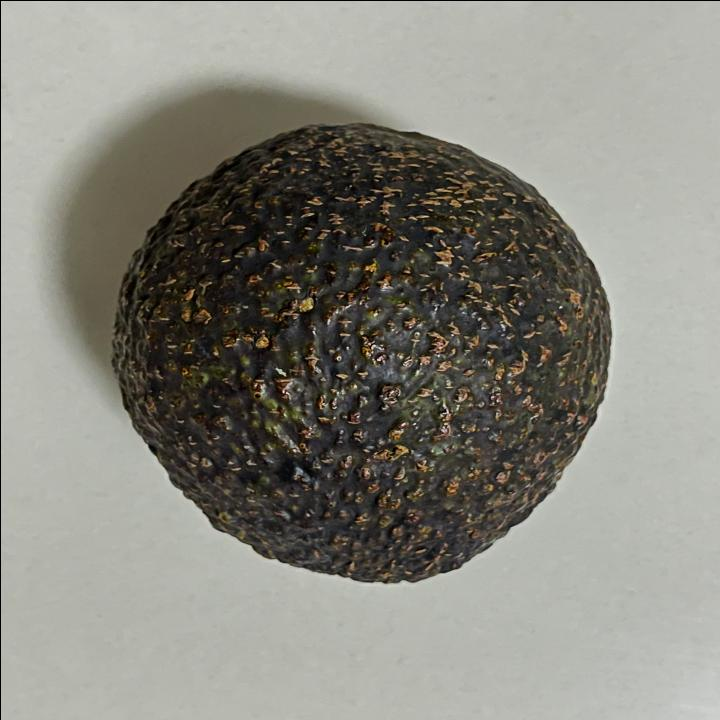Level2: (105, 117, 619, 590)
